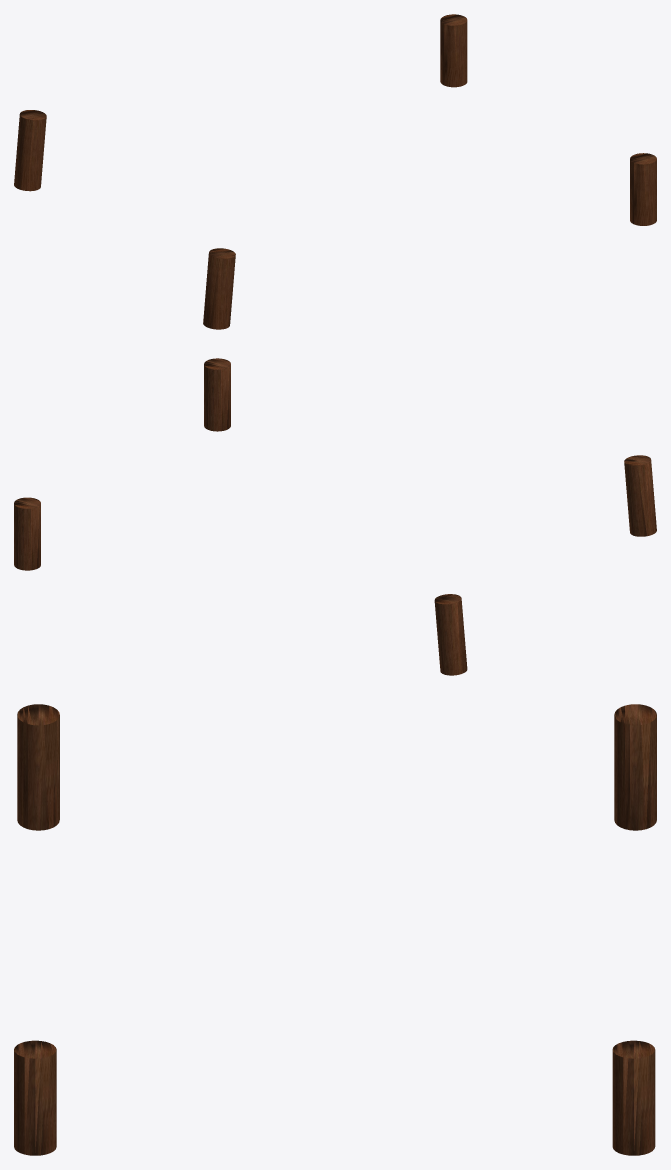
The model's file is feet.obj.
The picture shows the model from 3 angles, top to bottom: view 1: azimuth 30°, elevation 25°; view 2: azimuth 150°, elevation 25°; view 3: azimuth 270°, elevation 25°; orthographic projection. The views are drawn at different scales.
Visible parts, largest first — view 1: feet_mesh4_mesh4-geometry; view 2: feet_mesh4_mesh4-geometry; view 3: feet_mesh4_mesh4-geometry.
Boxes of the visible parts, box(x1,y1,x2,y2) form: feet_mesh4_mesh4-geometry: box(14, 14, 656, 329); feet_mesh4_mesh4-geometry: box(14, 358, 656, 675); feet_mesh4_mesh4-geometry: box(14, 704, 656, 1155).
Size of the model in its own units: 0.4691 by 0.0714 by 0.3683.
